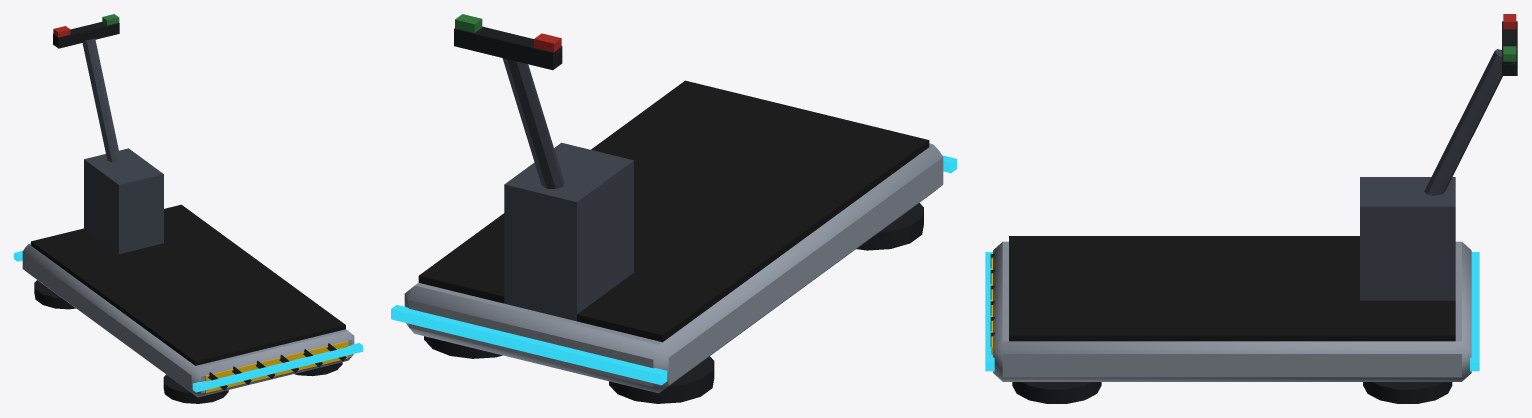
Rendered from loader_hover_pallet_jack.glb.
3 renders of one model, left to right at view 1: azimuth 30°, elevation 25°; view 2: azimuth 150°, elevation 25°; view 3: azimuth 270°, elevation 25°, orthographic. The views are drawn at different scales.
Parts seen in each view (by area): view 1: loader_hover_pallet_jack; view 2: loader_hover_pallet_jack; view 3: loader_hover_pallet_jack.
Part boxes in pixels (<box>): loader_hover_pallet_jack: <box>14,14,362,403</box>; loader_hover_pallet_jack: <box>391,14,956,403</box>; loader_hover_pallet_jack: <box>985,14,1517,403</box>.
Bounding box in the file's own units: 0.833 × 1.09 × 1.67.
